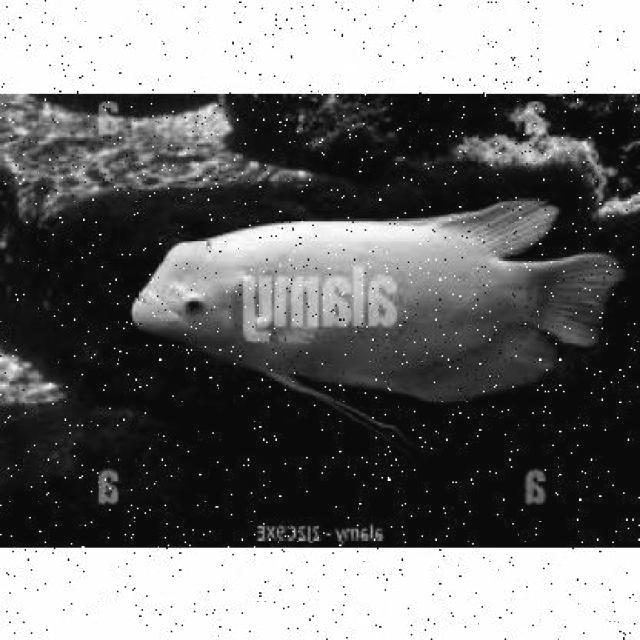gurame: (128, 212, 607, 400)
